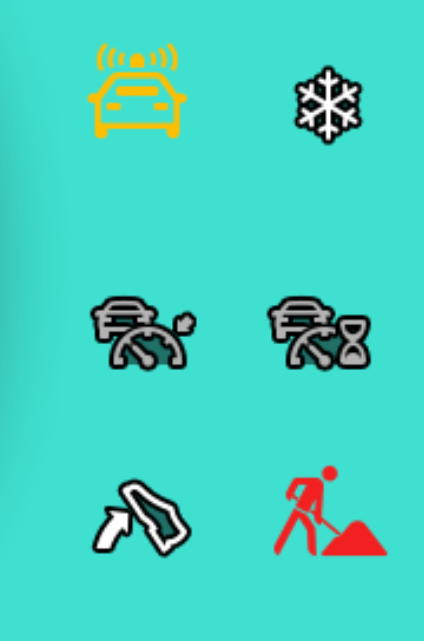ACCELERATOR: (75, 472, 215, 576)
ACC_AKTIV: (82, 286, 218, 392)
ACC_WAITING: (255, 281, 401, 383)
CONSTRUCTION: (263, 462, 409, 569)
EISSTERN: (279, 53, 384, 158)
SEV_INF: (77, 30, 204, 152)
